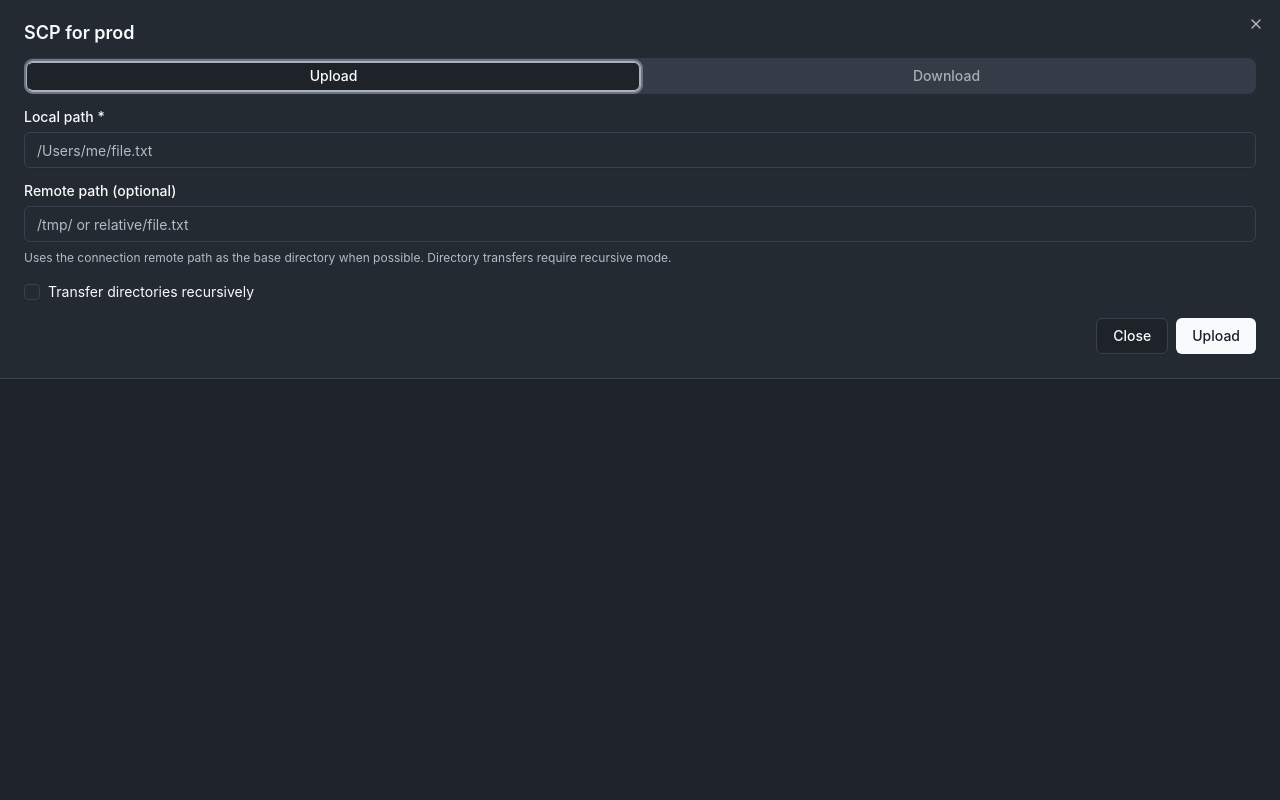
Test: ScpDialog › blocks submit and surfaces an inline alert when local path is empty
The width and height of the screenshot is (1280, 800).
Step 1. Click the button "Upload" → [1216, 336], box 1176,318 -> 1256,354
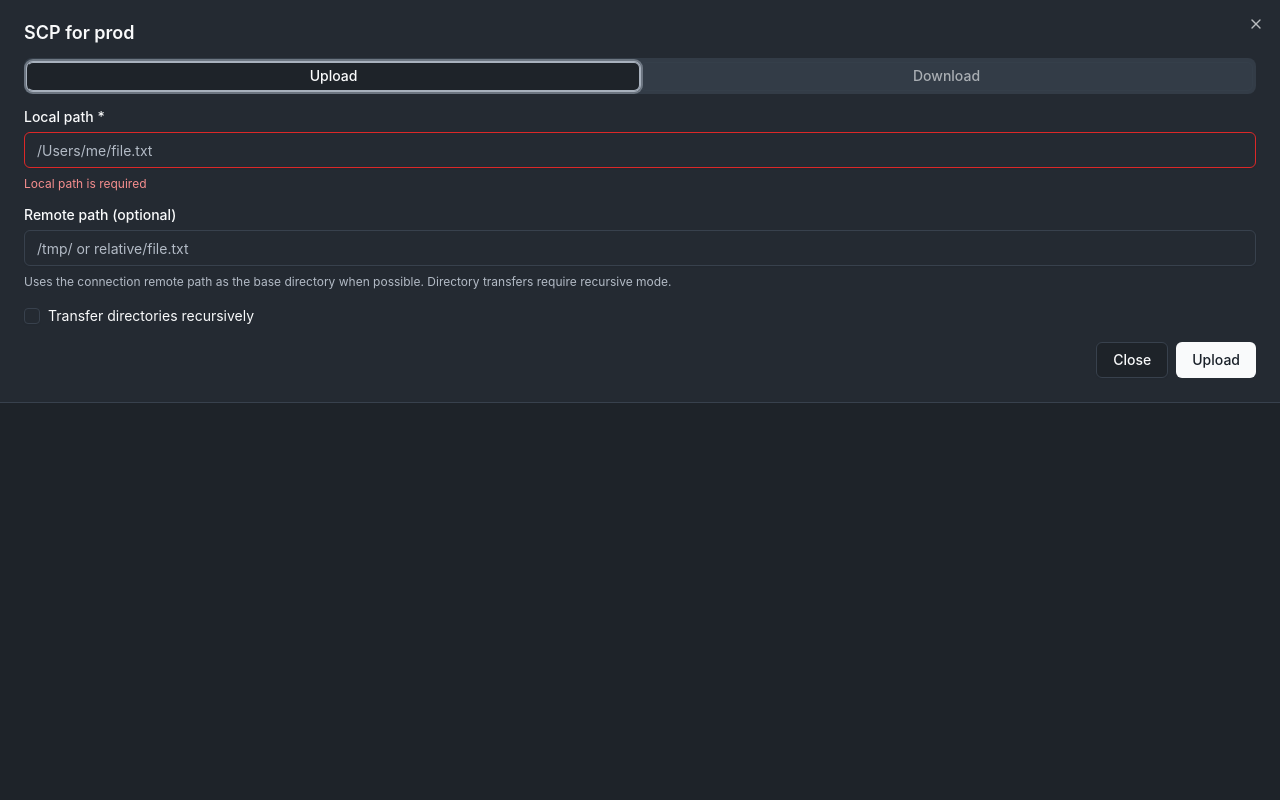
Expected: the message reads "Local path is required", 24,176 -> 146,191
